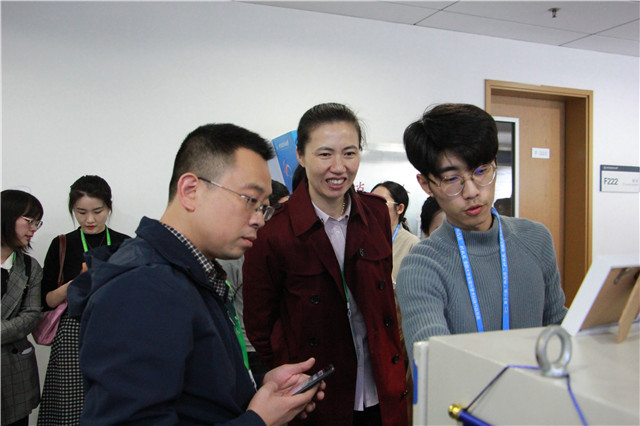noWear: (202, 153, 274, 258), (435, 164, 503, 230), (306, 139, 369, 203), (73, 200, 114, 238), (374, 190, 408, 223), (19, 215, 41, 247)
